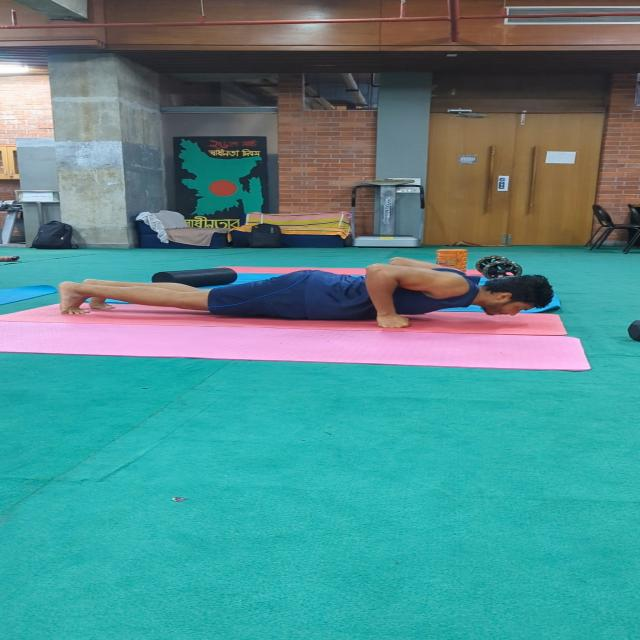Normal_PushUps: (44, 240, 560, 355)
